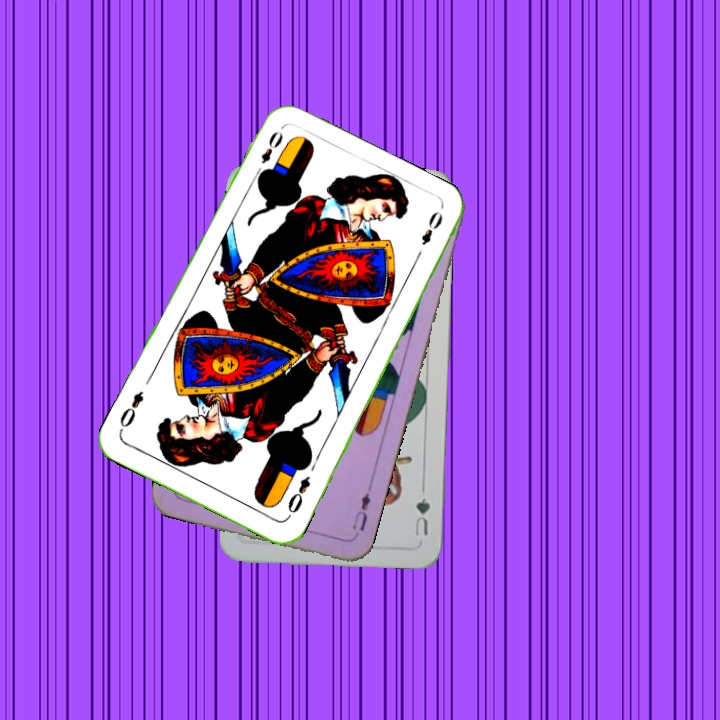EO: (251, 127, 286, 180), (283, 471, 313, 522)
EU: (348, 484, 374, 542)
GU: (411, 494, 432, 538)
